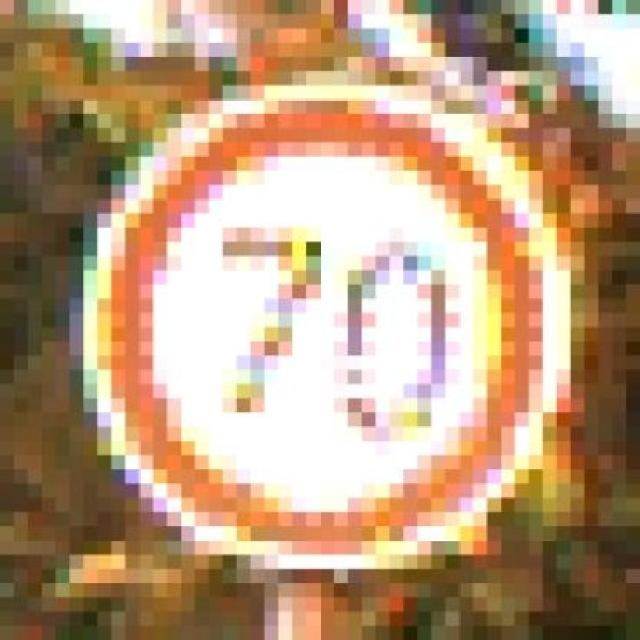forb_speed_over_70: (100, 90, 548, 552)
